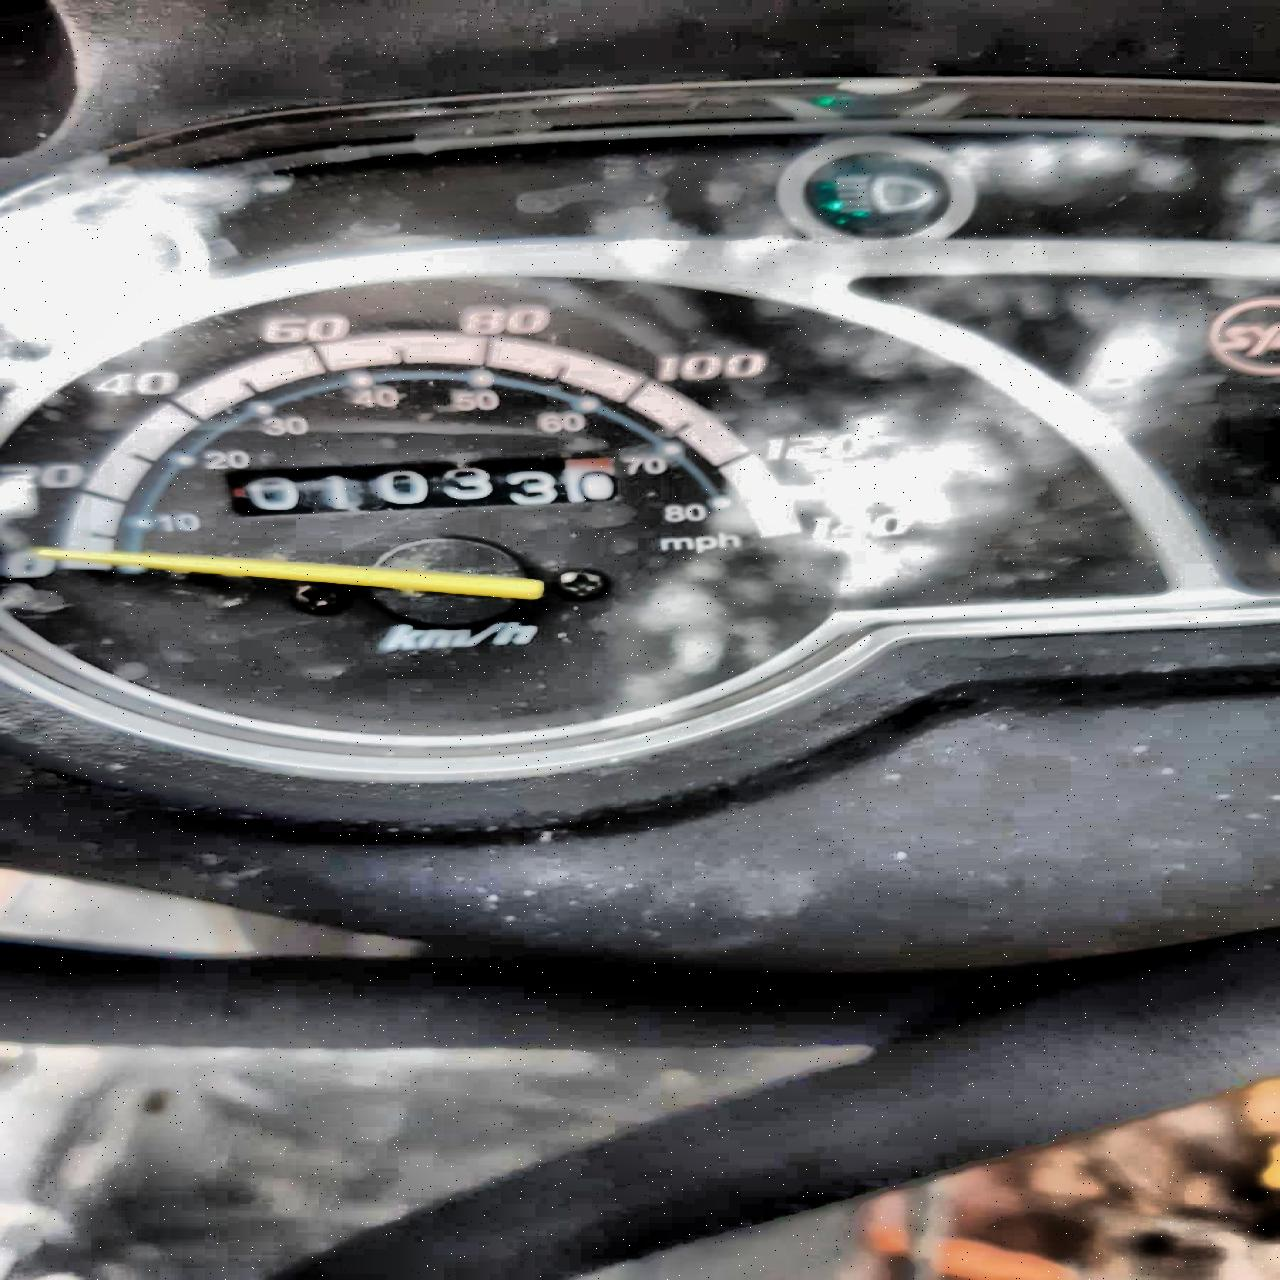0: (246, 474, 299, 511), (377, 467, 429, 504), (577, 469, 617, 501), (226, 450, 250, 468)
1: (324, 474, 349, 510)
3: (441, 465, 492, 499), (505, 471, 557, 504)
odometer: (224, 455, 620, 518)
